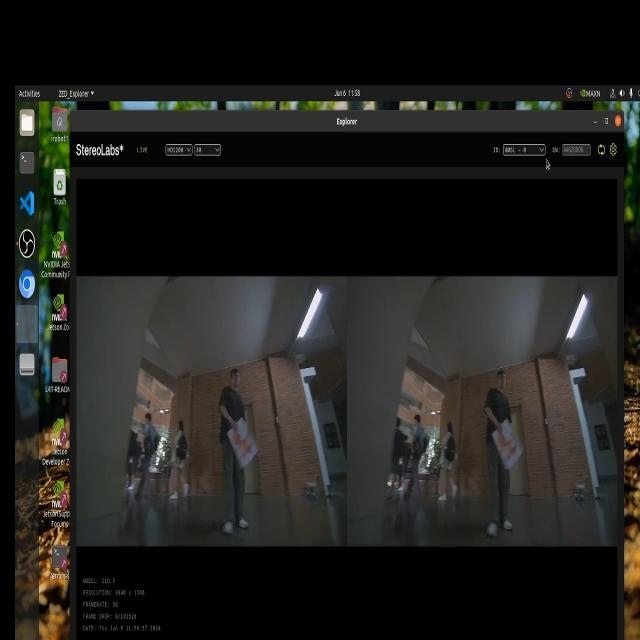red: (227, 431, 260, 470), (496, 430, 524, 465)
